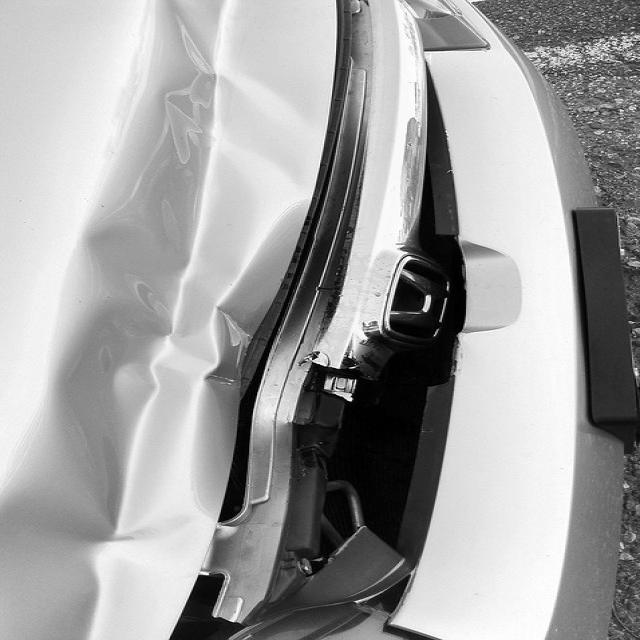crush: (0, 0, 467, 640)
